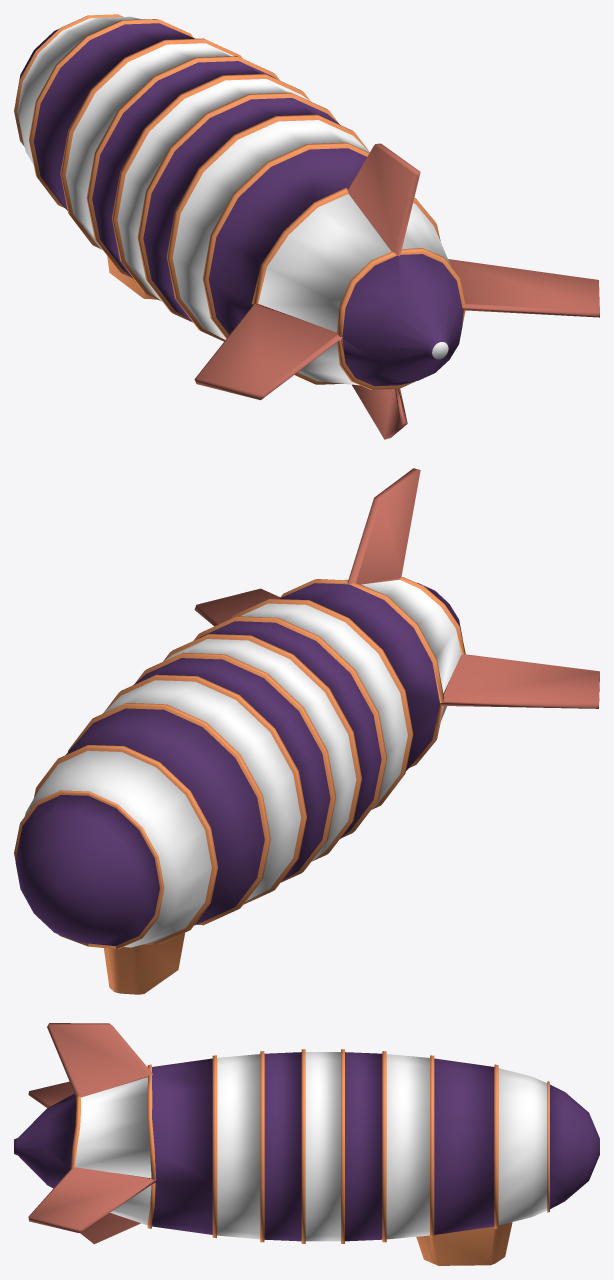
The model's file is blimp.glb.
3 views of the same model, one above another, from view 1: azimuth 30°, elevation 25°; view 2: azimuth 150°, elevation 25°; view 3: azimuth 270°, elevation 25° (orthographic). The views are drawn at different scales.
Visible parts, largest first — view 1: Cylinder; view 2: Cylinder; view 3: Cylinder.
Part boxes in pixels (x1,y1,x2,y2): Cylinder: [14, 14, 599, 439]; Cylinder: [14, 468, 599, 994]; Cylinder: [14, 1023, 599, 1265].
Size of the model in its own units: 12.38 by 9.09 by 20.53.
